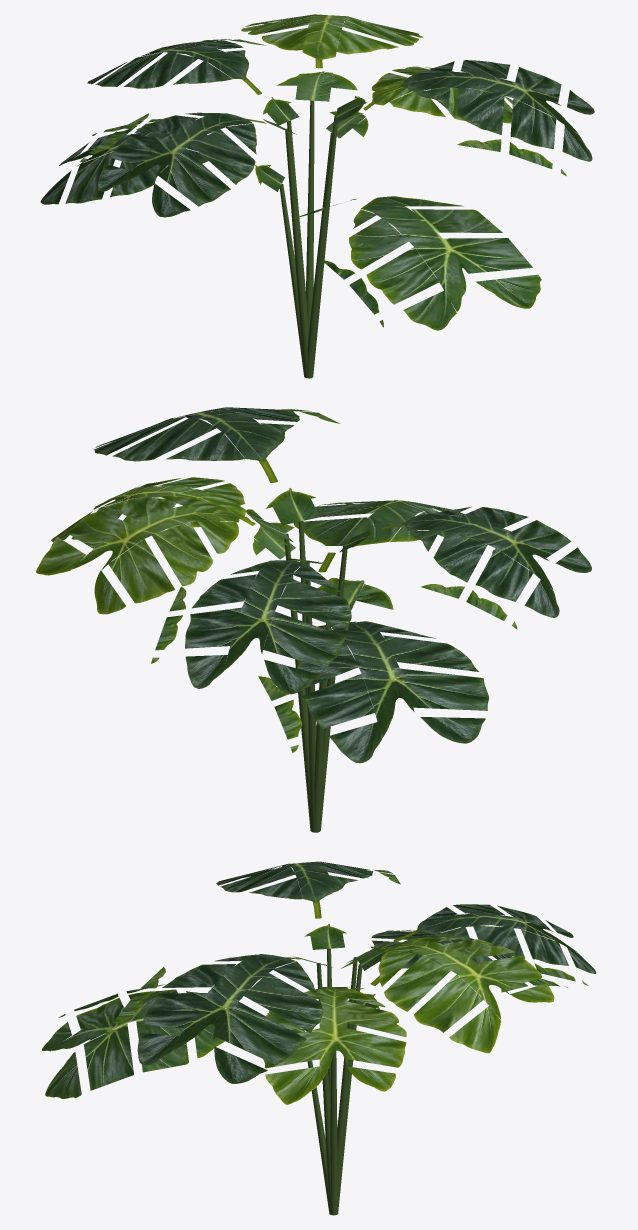
The model's file is split_leaf_01.glb.
3 views of the same model, one above another, from view 1: azimuth 30°, elevation 25°; view 2: azimuth 150°, elevation 25°; view 3: azimuth 270°, elevation 25° (orthographic). The views are drawn at different scales.
Visible parts, largest first — view 1: split_leaf_01; view 2: split_leaf_01; view 3: split_leaf_01.
Boxes of the visible parts, x1,y1,x2,y2 form: split_leaf_01: (40,14,594,378); split_leaf_01: (36,407,591,832); split_leaf_01: (42,861,596,1215).
Bounding box in the file's own units: 2.51 × 1.42 × 2.63.
Materials: 2 (1 with a texture image).
